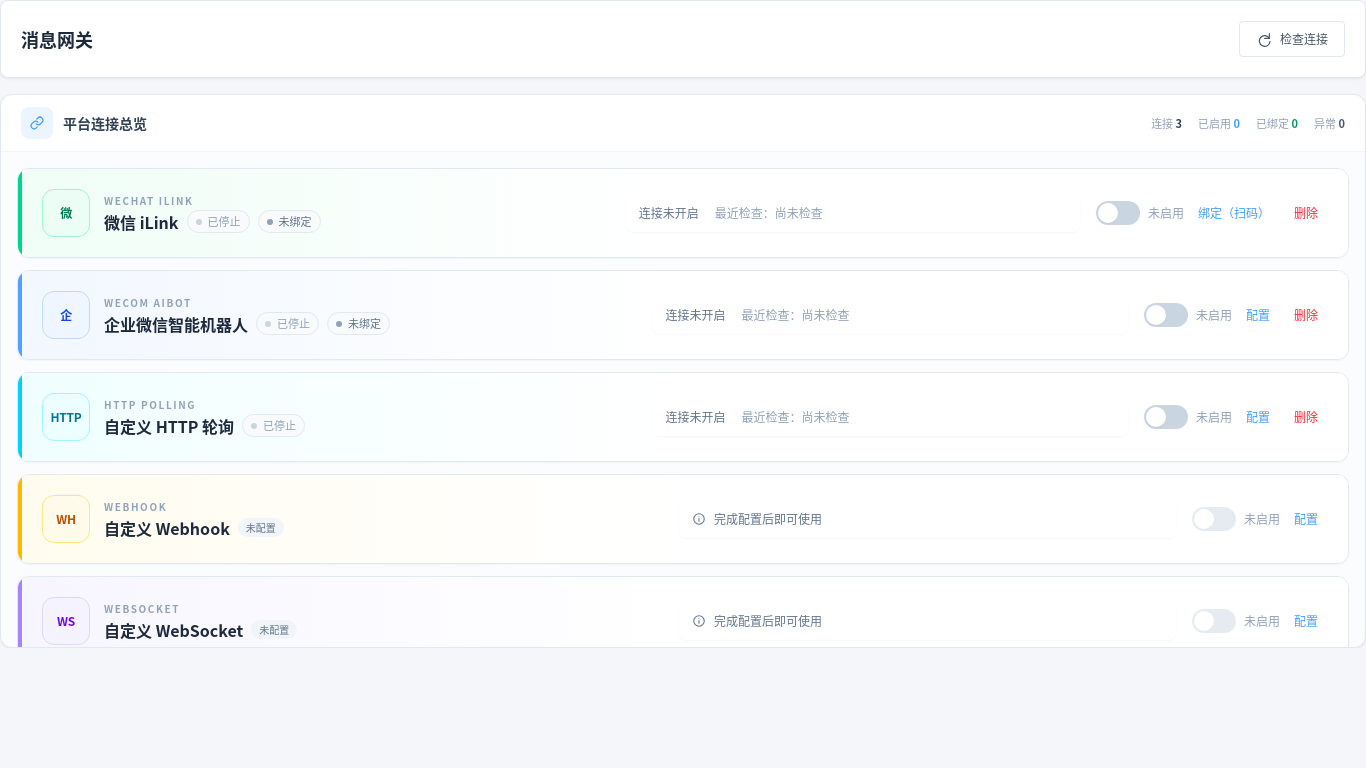
Test case: ConnectionsPage 平台分区与启用校验 › 已有 HTTP 连接在统一弹窗同屏展示配置、完整 URL 和 curl
Check: the element "自定义 HTTP 轮询" is shown, box [17,372,1349,462]
Click the button "配置" in the row of "自定义 HTTP 轮询". click: (1258, 417)
box: [1236,401,1280,433]
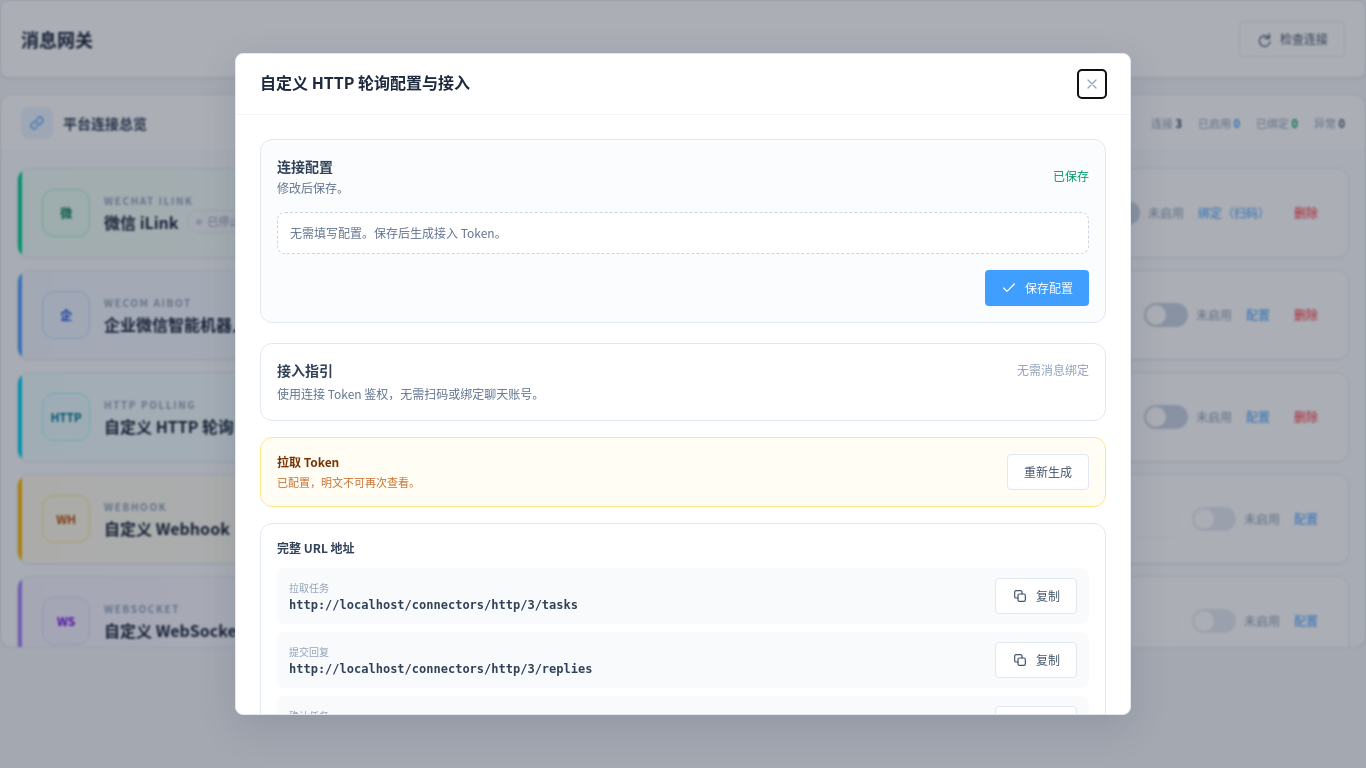
Check: the dialog "自定义 HTTP 轮询配置与接入" is shown, box [235,53,1131,715]
Check: the heading "连接配置" is shown, box [277,156,333,176]
Check: the heading "接入指引" is shown, box [277,360,333,380]
